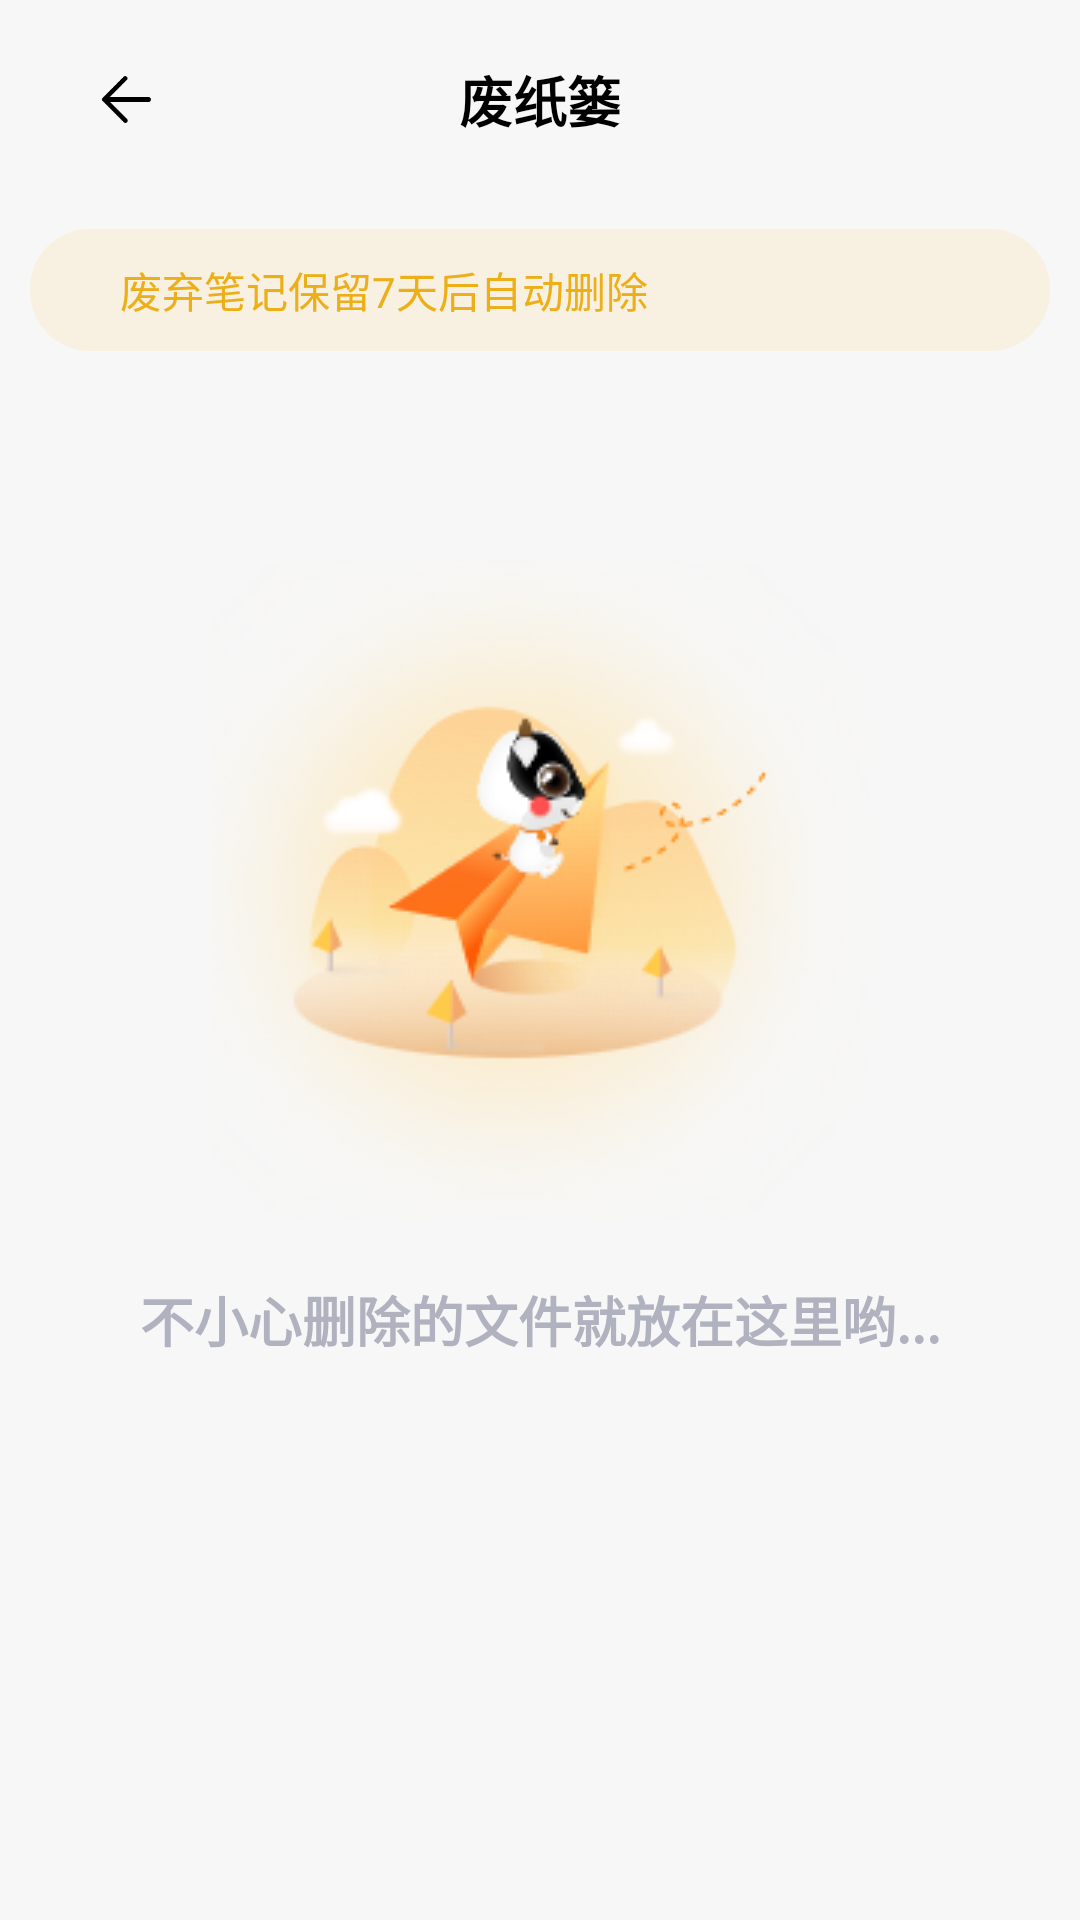

Icons on this 1080×1920 Android screen, each with its box as (x1, y1, x2, y2):
back android: (102, 76, 151, 123)
